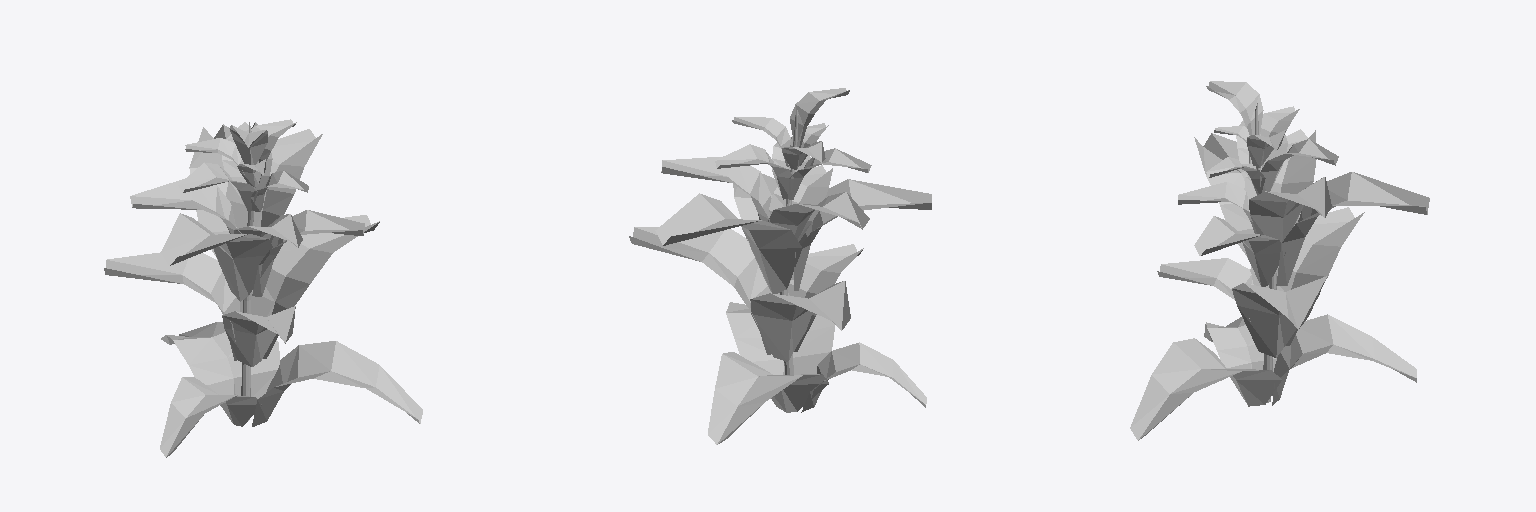
Rendered from Plant_2.obj.
3 views of the same model, side by side, from view 1: azimuth 30°, elevation 25°; view 2: azimuth 150°, elevation 25°; view 3: azimuth 270°, elevation 25° (orthographic).
Parts seen in each view (by area): view 1: Plant_2; view 2: Plant_2; view 3: Plant_2.
Boxes of the visible parts, box(x1,y1,x2,y2) form: Plant_2: box(104, 119, 422, 457); Plant_2: box(629, 88, 931, 444); Plant_2: box(1130, 81, 1429, 440).
Size of the model in its own units: 1.37 by 1.56 by 1.38.